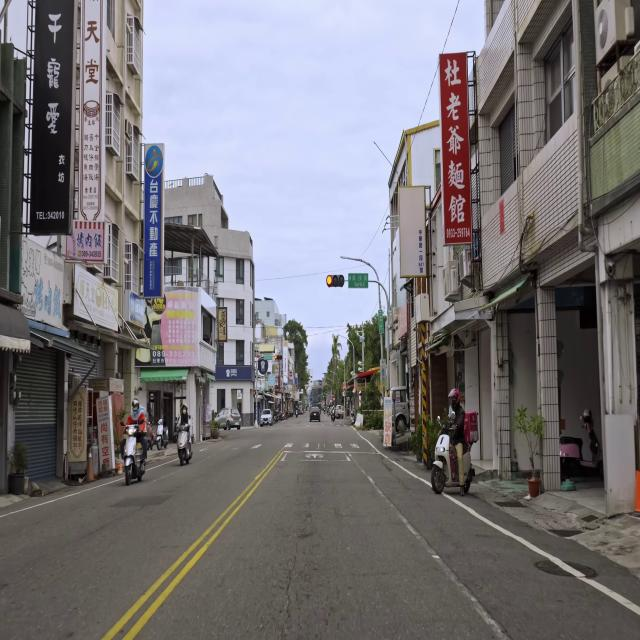red light: (326, 274, 345, 287), (275, 355, 282, 360)
